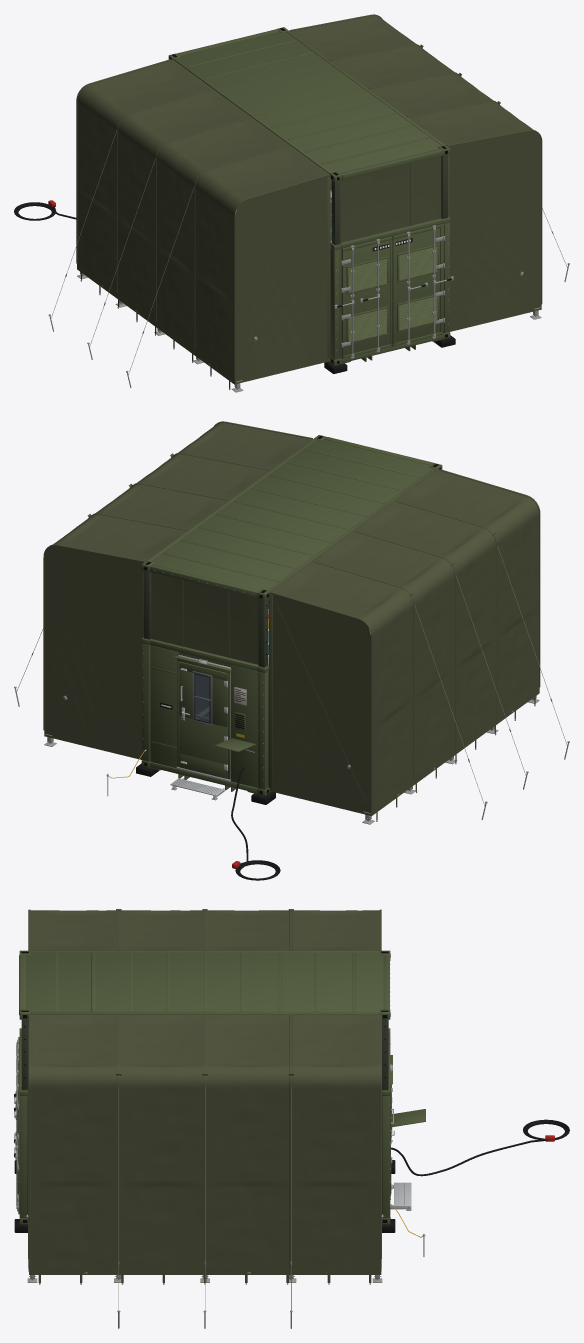
The model's file is ehmecc-deployed-fitted.glb.
3 views of the same model, one above another, from view 1: azimuth 30°, elevation 25°; view 2: azimuth 150°, elevation 25°; view 3: azimuth 270°, elevation 25° (orthographic). The views are drawn at different scales.
Visible parts, largest first — view 1: EHMECC_expansion_L, EHMECC_core, EHMECC_expansion_R; view 2: EHMECC_expansion_L, EHMECC_core, EHMECC_expansion_R, EHMECC_site_kit; view 3: EHMECC_expansion_R, EHMECC_core, EHMECC_expansion_L, EHMECC_site_kit.
Boxes of the visible parts, left/top/right/bottom form: EHMECC_expansion_L: left=48, top=59, right=330, bottom=392; EHMECC_core: left=168, top=27, right=455, bottom=373; EHMECC_expansion_R: left=289, top=14, right=569, bottom=331; EHMECC_expansion_L: left=269, top=469, right=569, bottom=824; EHMECC_core: left=136, top=435, right=442, bottom=804; EHMECC_expansion_R: left=14, top=421, right=312, bottom=759; EHMECC_site_kit: left=106, top=749, right=280, bottom=880; EHMECC_expansion_R: left=26, top=1014, right=383, bottom=1328; EHMECC_core: left=14, top=950, right=425, bottom=1232; EHMECC_expansion_L: left=28, top=909, right=381, bottom=950; EHMECC_site_kit: left=390, top=1119, right=569, bottom=1256.
Bounding box in the file's own units: 9.34 × 4.23 × 9.09.
63 materials, 12 textured.
